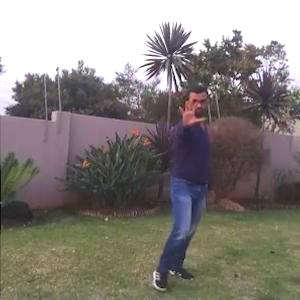follow_hand: (176, 91, 208, 127)
